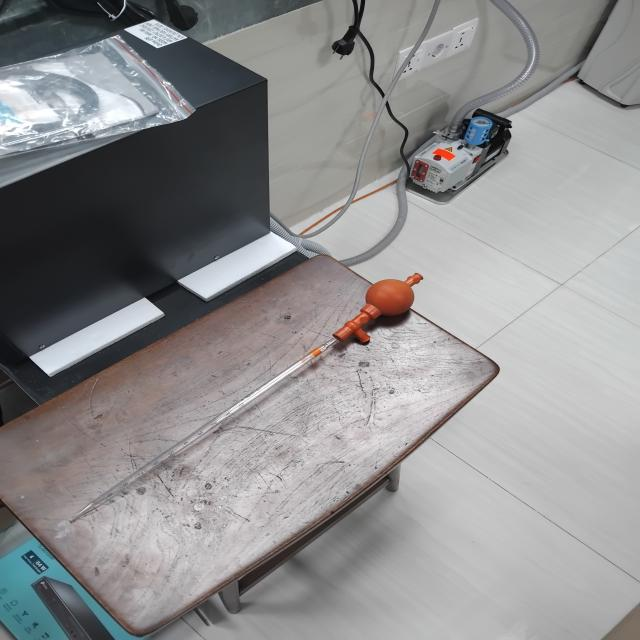Volumetric_Pipet: (50, 260, 467, 540)
